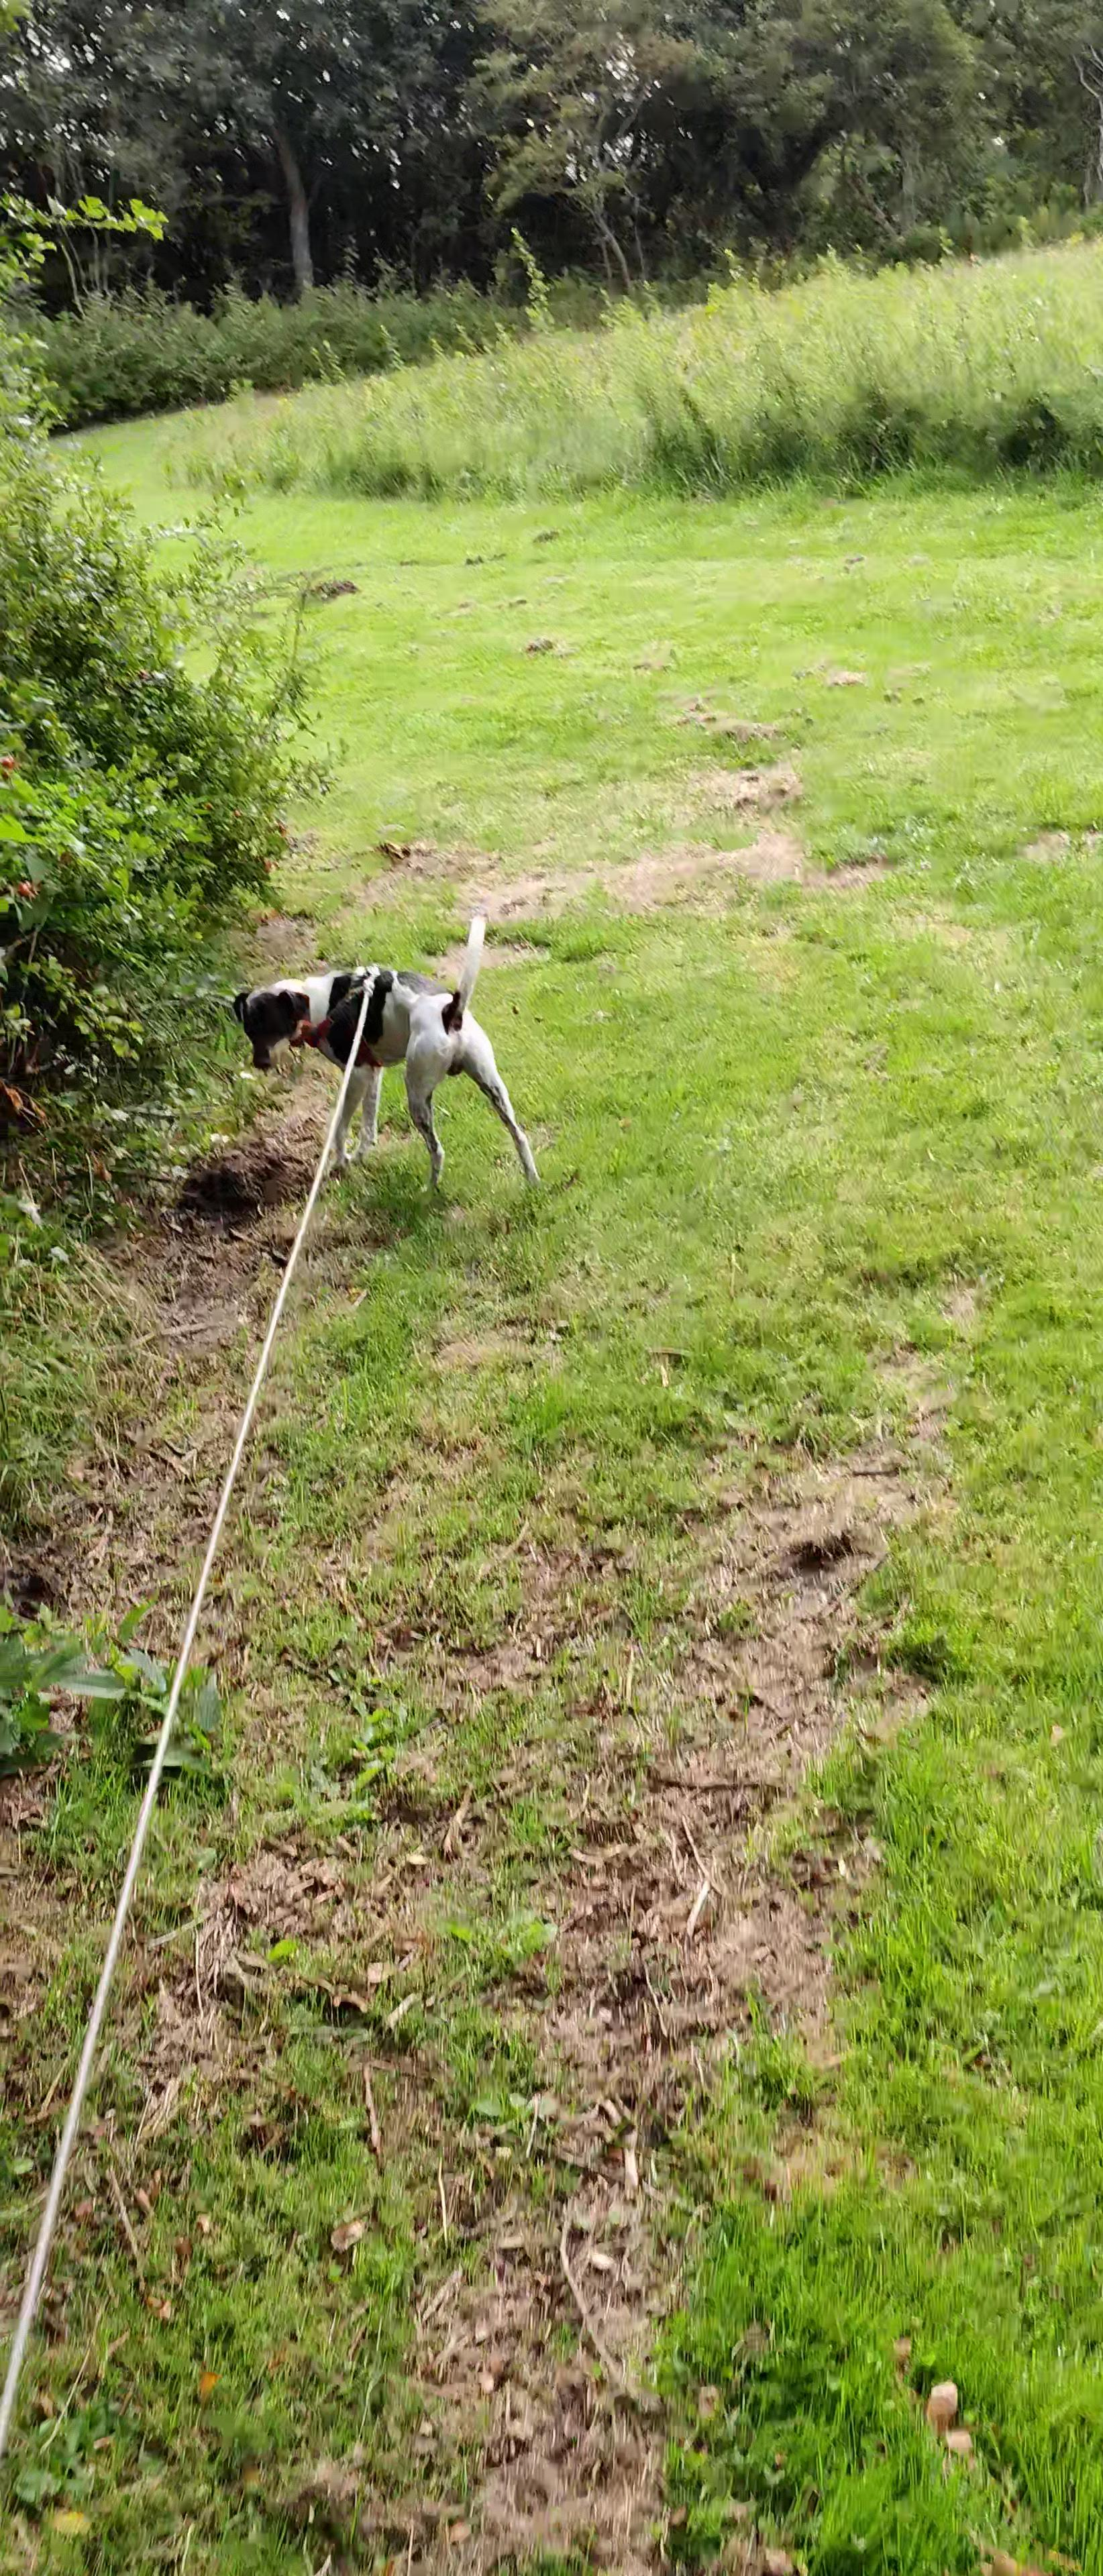Dog: (222, 910, 538, 1193)
